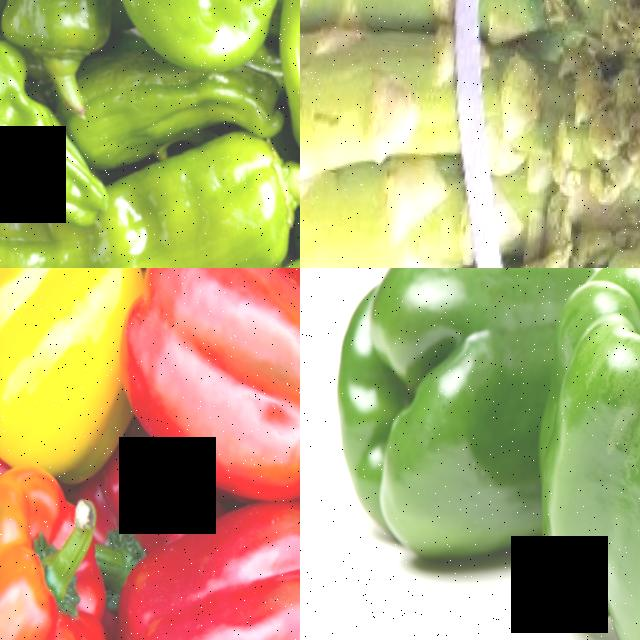asparagus: (473, 38, 640, 185)
bell pepper: (312, 268, 558, 570), (536, 268, 640, 640), (134, 268, 300, 481), (0, 268, 150, 466), (127, 524, 300, 640), (0, 503, 107, 640)
pepper: (122, 157, 300, 268), (0, 55, 102, 204), (104, 0, 240, 31)
